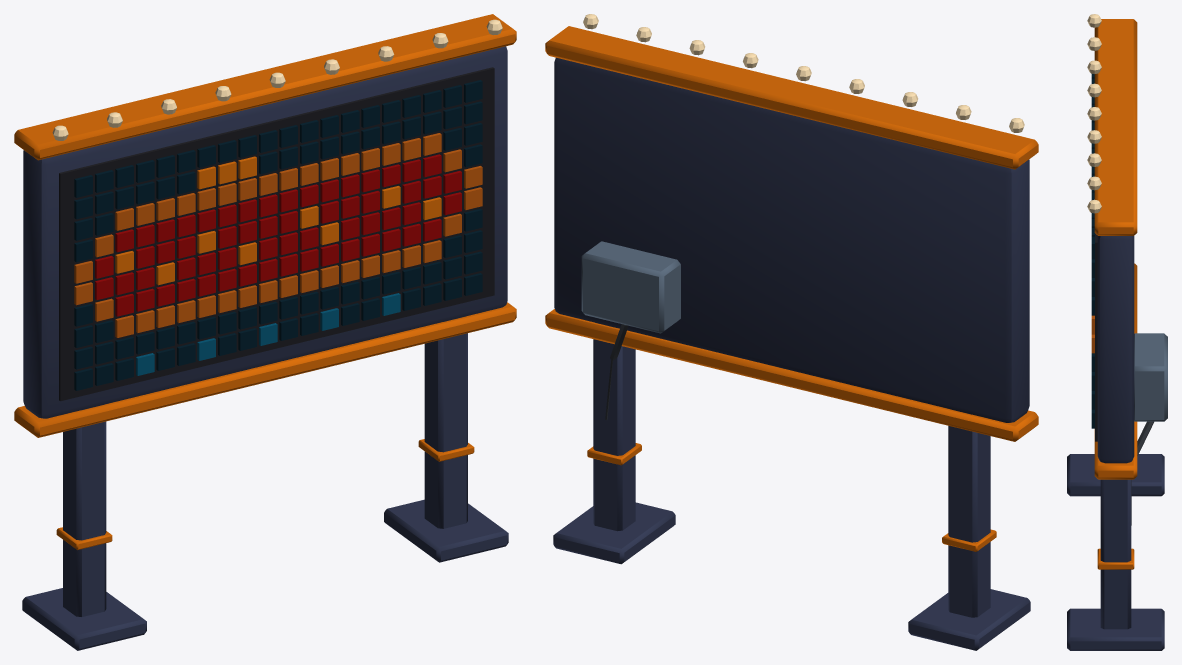
File: LedDisplay.obj
The picture shows the model from 3 angles, left to right: view 1: azimuth 30°, elevation 25°; view 2: azimuth 150°, elevation 25°; view 3: azimuth 270°, elevation 25°; orthographic projection. The views are drawn at different scales.
Parts seen in each view (by area): view 1: LedDisplay; view 2: LedDisplay; view 3: LedDisplay.
Part boxes in pixels (left/top/right/bottom): LedDisplay: left=14, top=14, right=516, bottom=650; LedDisplay: left=545, top=14, right=1038, bottom=650; LedDisplay: left=1067, top=14, right=1167, bottom=650.
Bounding box in the file's own units: 8 × 8.18 × 1.65.
